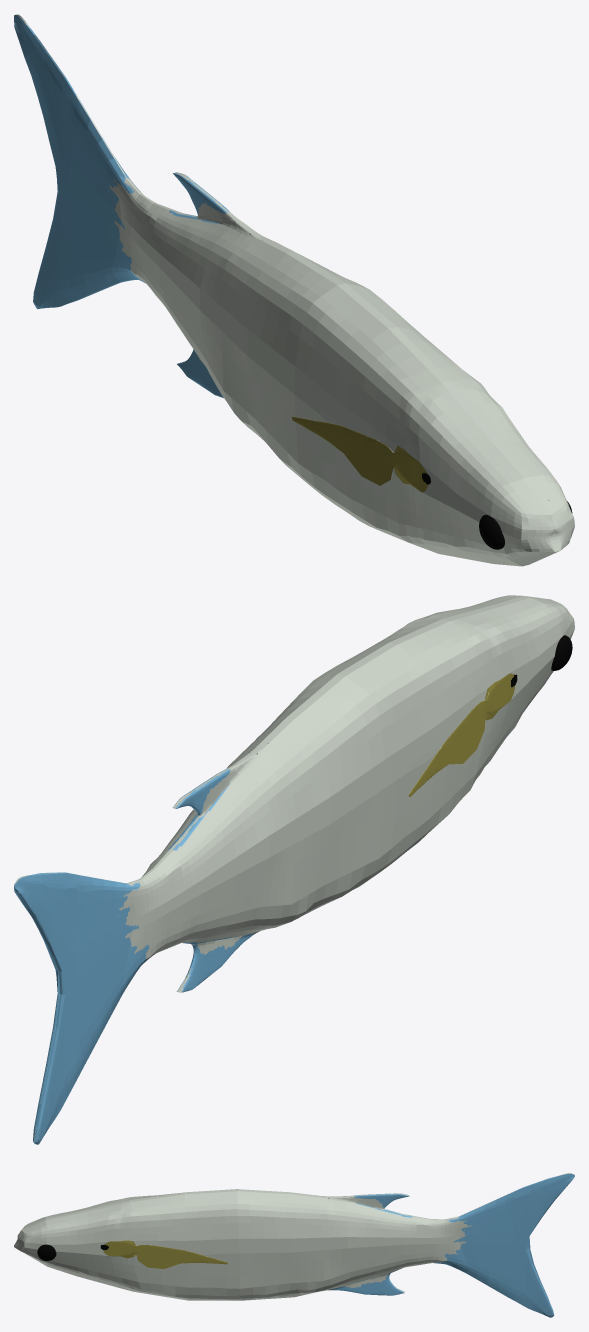
The model's file is mullet.fbx.
3 renders of one model, top to bottom at view 1: azimuth 30°, elevation 25°; view 2: azimuth 150°, elevation 25°; view 3: azimuth 270°, elevation 25°, orthographic. The views are drawn at different scales.
Visible parts, largest first — view 1: Cube; view 2: Cube; view 3: Cube.
Part boxes in pixels (box(x1,y1,x2,y2)): Cube: box(14, 14, 574, 566); Cube: box(14, 595, 574, 1144); Cube: box(14, 1173, 574, 1317).
Bounding box in the file's own units: 0.2985 × 0.6787 × 2.39.
2 materials, 2 textured.
